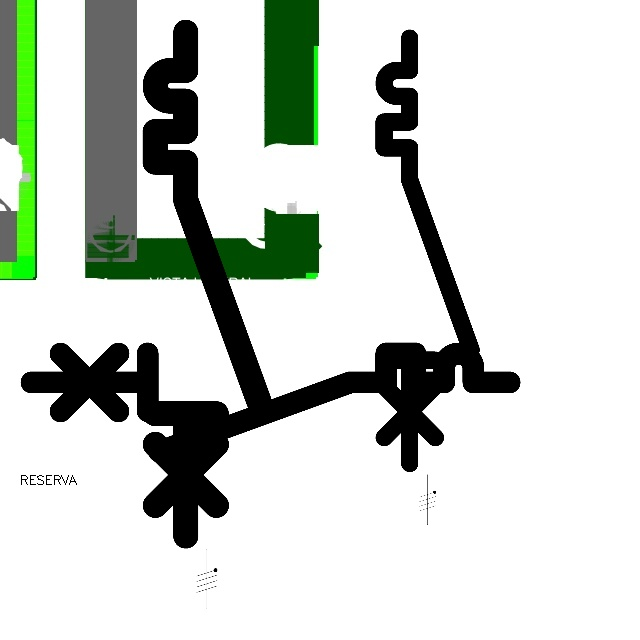interruptor_termomagnetico: (142, 19, 272, 549), (19, 341, 522, 464), (373, 27, 482, 474)
